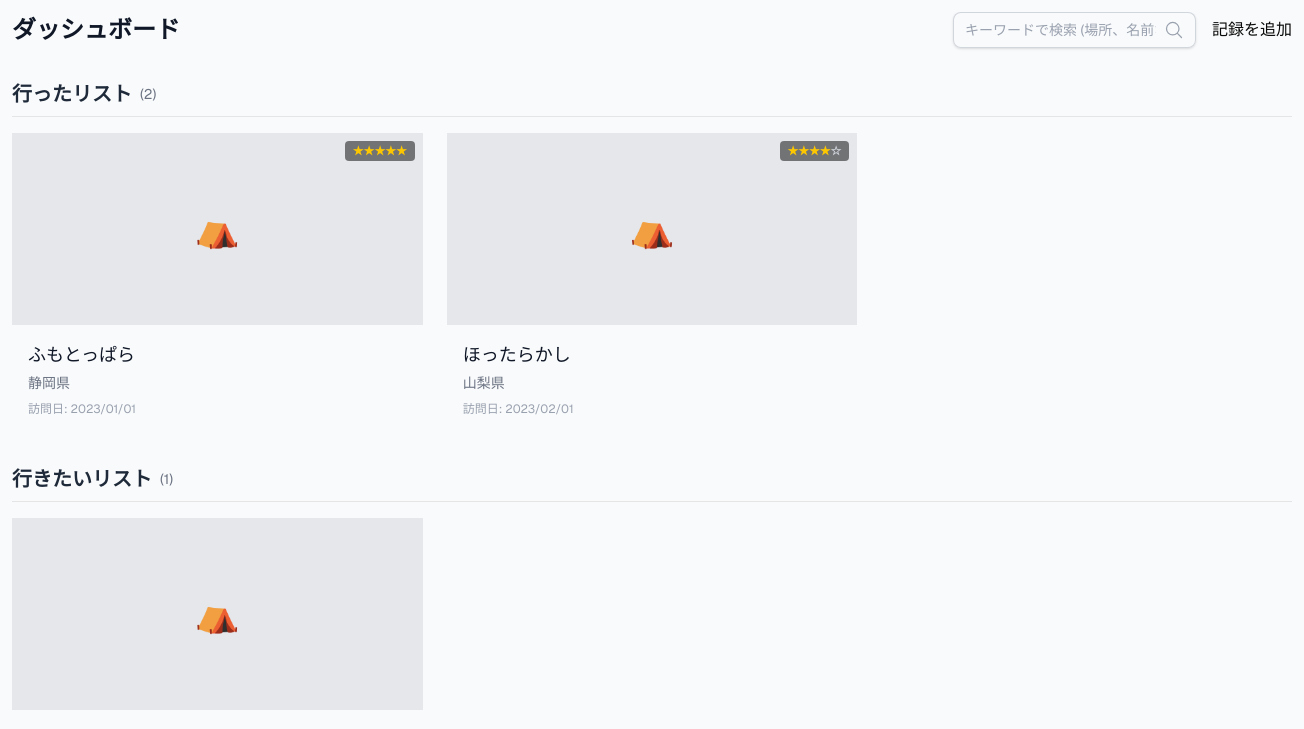
Test: DashboardClient › filters campsites by search text
Note: Search for "ふもと"
Type "ふもと" into the field with placeholder "キーワードで検索 (場所、名前など)...". click: (1074, 30)
box: [953, 12, 1196, 48]
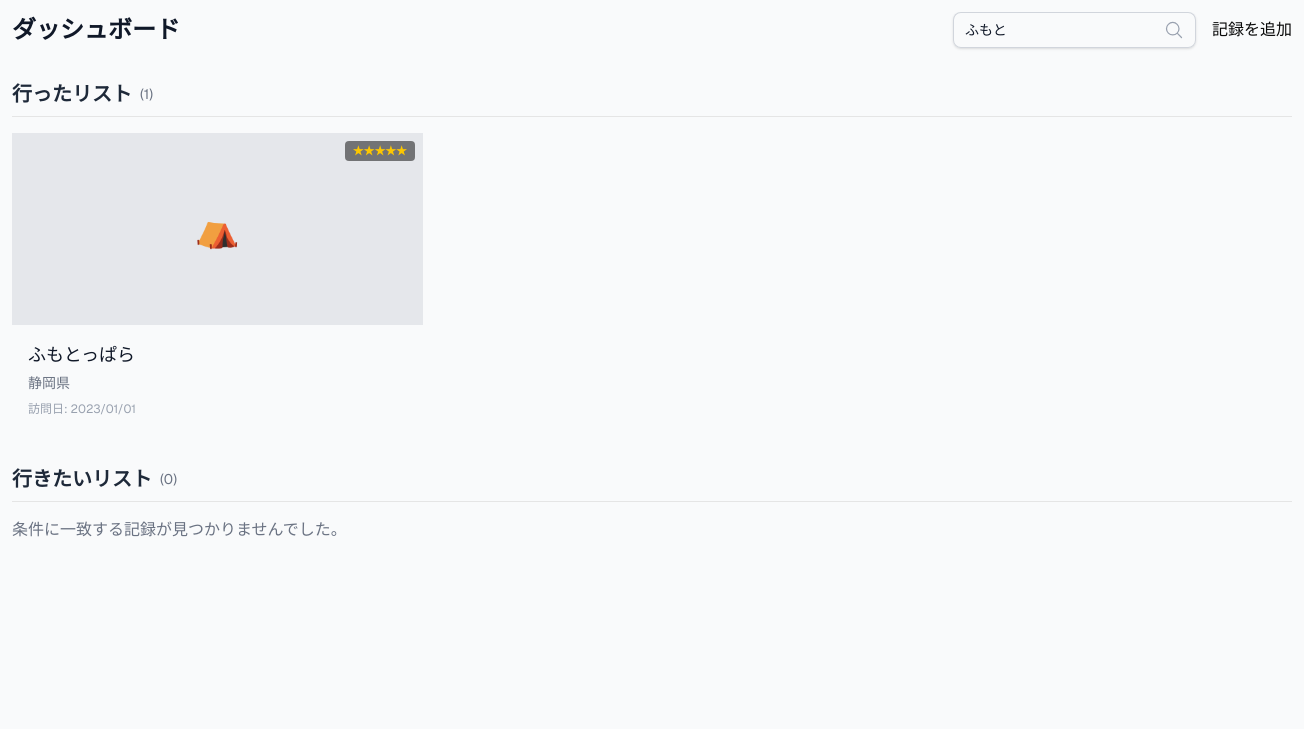
Expected: the heading "ふもとっぱら" is shown, [28, 343, 135, 366]
Expected: the link "ほったらかし" is gone
